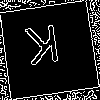K: (24, 24, 63, 74)
